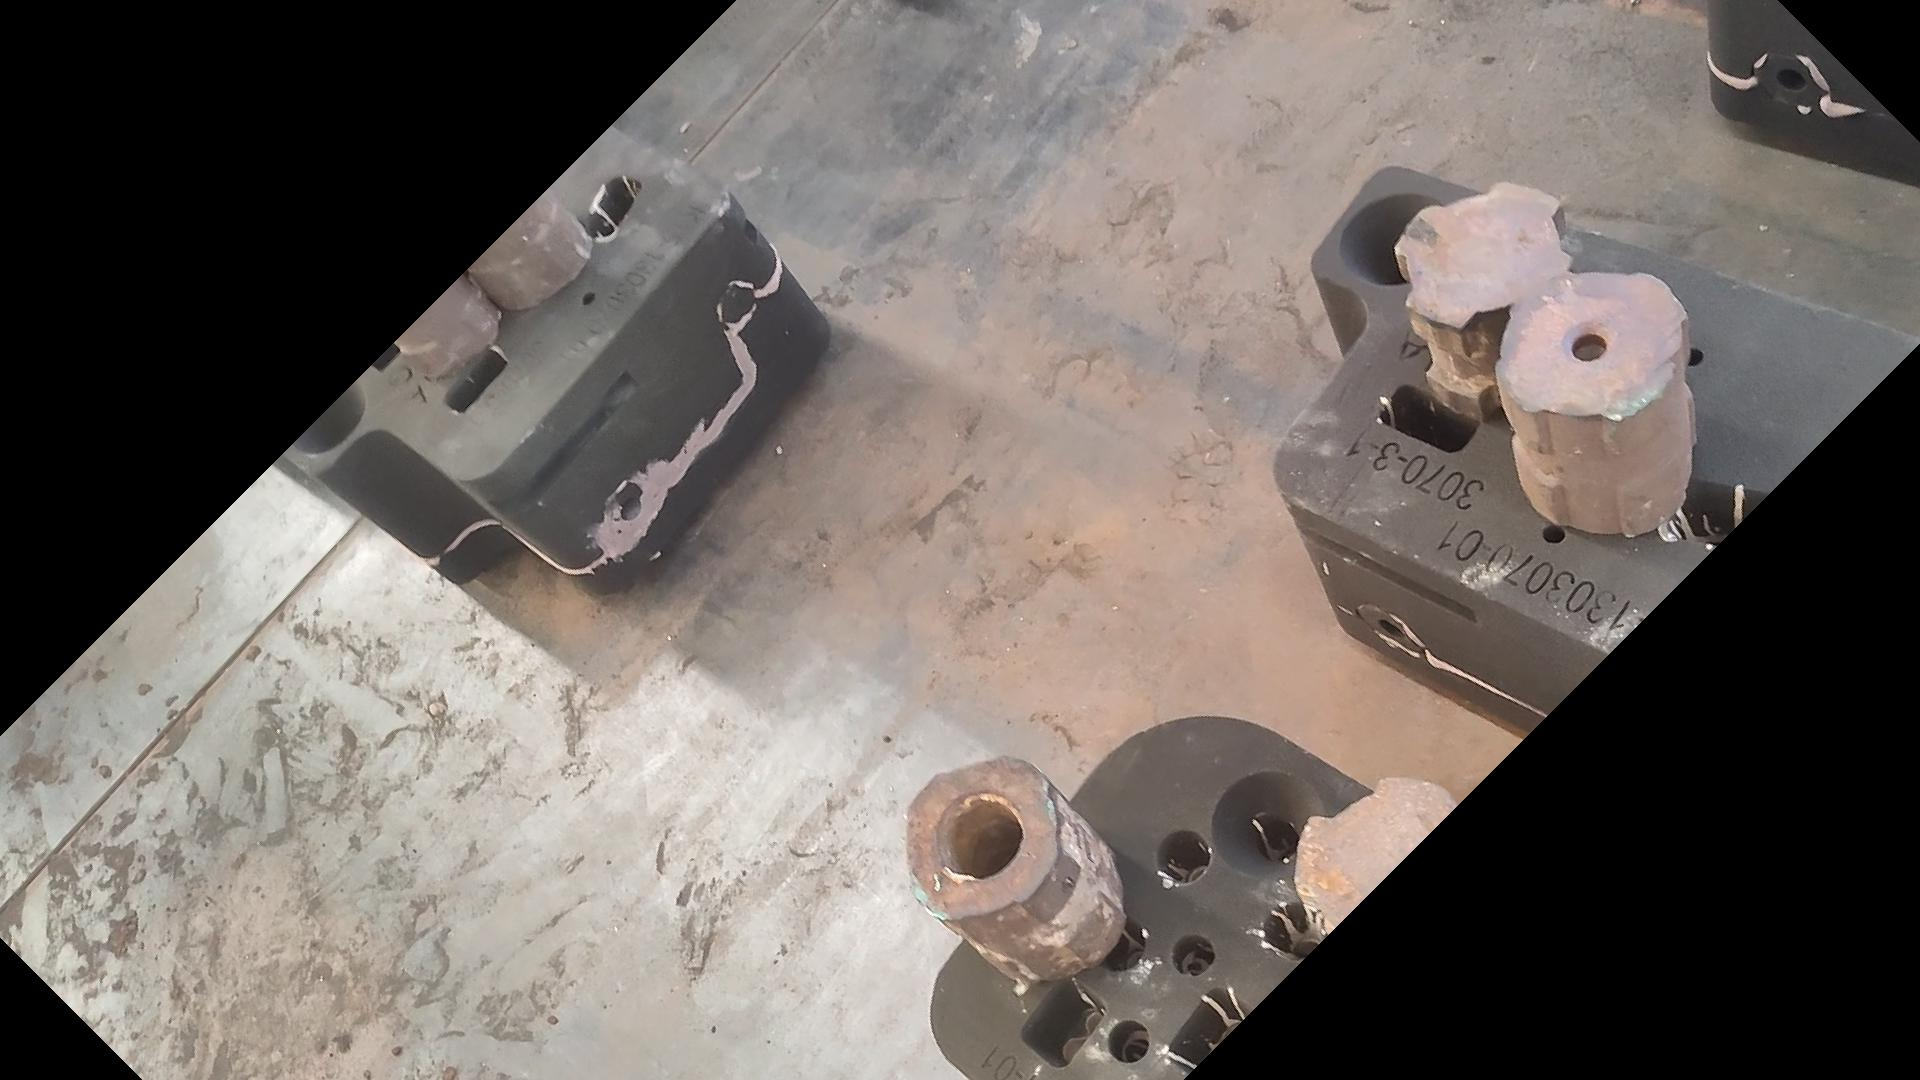pouring hole: (1213, 770, 1321, 877), (1338, 193, 1455, 287), (277, 377, 365, 455)
